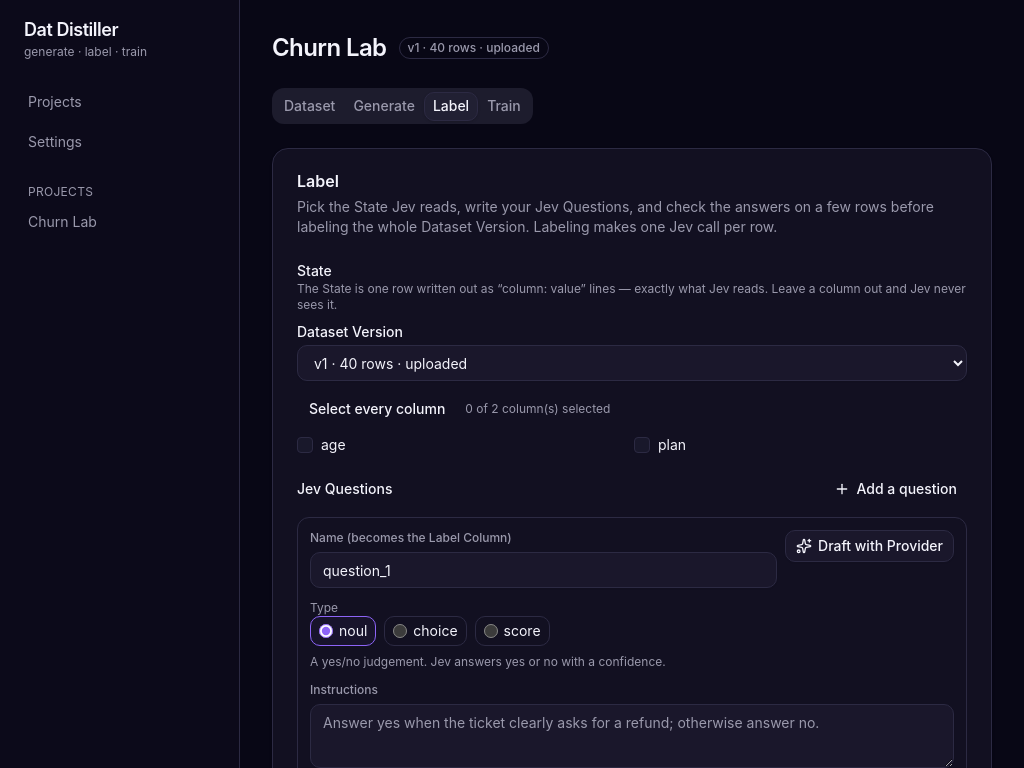
it: Label step — the draft helper › reports a Provider that could not draft anything
Click the button "Draft with Provider". click: (870,546)
box: [785,530,954,562]
(page scrolled)
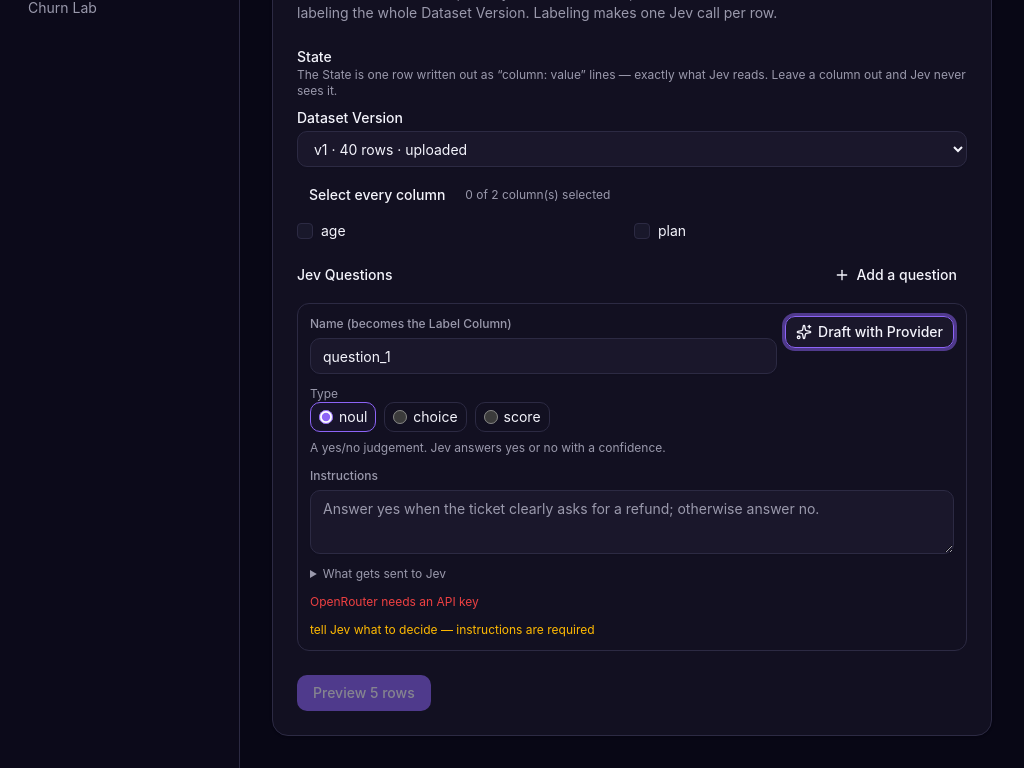
Expected: the text "OpenRouter needs an API key" is shown, [310,594,479,609]
